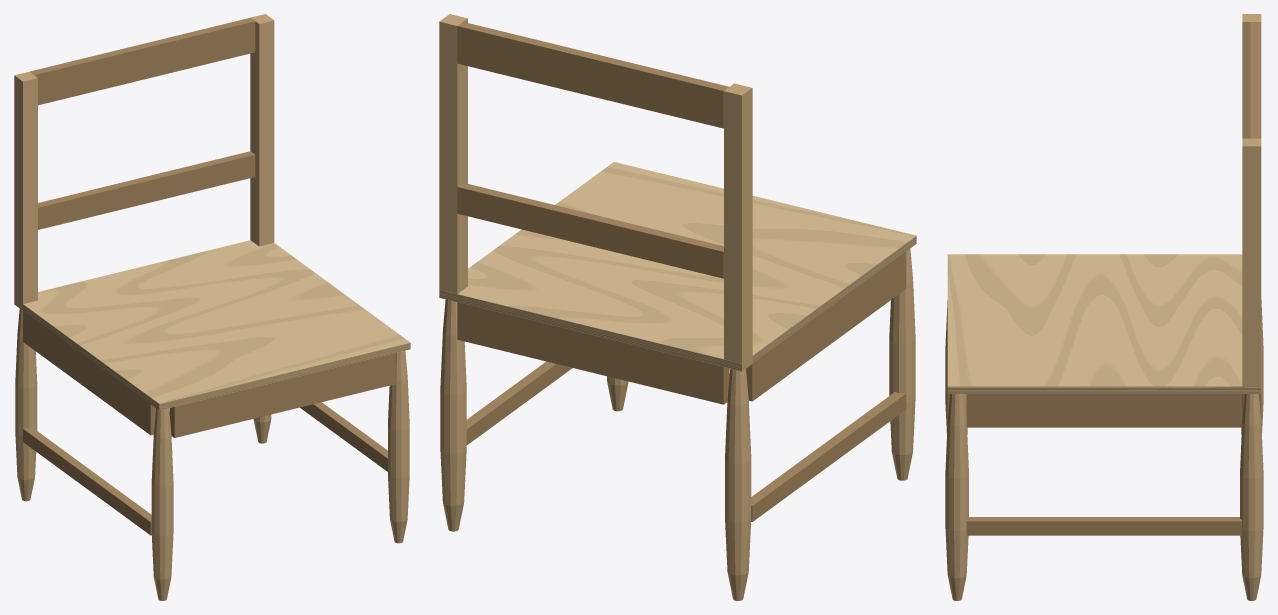
File: SAB-DKC-std.glb
3 views of the same model, side by side, from view 1: azimuth 30°, elevation 25°; view 2: azimuth 150°, elevation 25°; view 3: azimuth 270°, elevation 25° (orthographic). The views are drawn at different scales.
Parts seen in each view (by area): view 1: seat:sheet:eyJtIjoicGx5Iiwic2lkZSI6ImZhY2UiLCJzZWVkIjo2LCJ2Z, leg-bl:pbr, back-top:pbr, rail-f:pbr, back-mid:pbr, leg-br:pbr, rail-l:pbr, leg-fl:pbr, leg-fr:pbr, stretcher-l:pbr, seat:sheet:eyJtIjoicGx5Iiwic2lkZSI6ImVkZ2UtbG9uZyIsInNlZWQiO, stretcher-r:pbr (+1 smaller); view 2: seat:sheet:eyJtIjoicGx5Iiwic2lkZSI6ImZhY2UiLCJzZWVkIjo2LCJ2Z, leg-bl:pbr, leg-br:pbr, back-top:pbr, rail-b:pbr, back-mid:pbr, rail-l:pbr, leg-fl:pbr, stretcher-l:pbr, seat:sheet:eyJtIjoicGx5Iiwic2lkZSI6ImVkZ2UtbG9uZyIsInNlZWQiO, stretcher-r:pbr, seat:sheet:eyJtIjoicGx5Iiwic2lkZSI6ImVkZ2UtZW5kIiwic2VlZCI6N; view 3: seat:sheet:eyJtIjoicGx5Iiwic2lkZSI6ImZhY2UiLCJzZWVkIjo2LCJ2Z, rail-r:pbr, leg-br:pbr, stretcher-r:pbr, leg-fr:pbr, seat:sheet:eyJtIjoicGx5Iiwic2lkZSI6ImVkZ2UtZW5kIiwic2VlZCI6N, leg-bl:pbr, back-top:pbr.
Part boxes in pixels (x1,y1,x2,y2): seat:sheet:eyJtIjoicGx5Iiwic2lkZSI6ImZhY2UiLCJzZWVkIjo2LCJ2Z: [23, 240, 409, 403]; leg-bl:pbr: [14, 71, 37, 501]; back-top:pbr: [30, 17, 255, 105]; rail-f:pbr: [169, 353, 395, 437]; back-mid:pbr: [38, 151, 255, 229]; leg-br:pbr: [250, 14, 274, 443]; rail-l:pbr: [23, 311, 155, 435]; leg-fl:pbr: [151, 408, 173, 600]; leg-fr:pbr: [388, 351, 409, 543]; stretcher-l:pbr: [23, 427, 151, 535]; seat:sheet:eyJtIjoicGx5Iiwic2lkZSI6ImVkZ2UtbG9uZyIsInNlZWQiO: [159, 342, 410, 410]; stretcher-r:pbr: [300, 402, 387, 471]; seat:sheet:eyJtIjoicGx5Iiwic2lkZSI6ImZhY2UiLCJzZWVkIjo2LCJ2Z: [458, 162, 916, 358]; leg-bl:pbr: [724, 83, 752, 600]; leg-br:pbr: [439, 14, 467, 531]; back-top:pbr: [457, 22, 729, 128]; rail-b:pbr: [457, 302, 729, 404]; back-mid:pbr: [457, 182, 723, 278]; rail-l:pbr: [746, 251, 906, 401]; leg-fl:pbr: [889, 249, 915, 480]; stretcher-l:pbr: [751, 392, 906, 521]; seat:sheet:eyJtIjoicGx5Iiwic2lkZSI6ImVkZ2UtbG9uZyIsInNlZWQiO: [439, 290, 741, 371]; stretcher-r:pbr: [466, 361, 572, 445]; seat:sheet:eyJtIjoicGx5Iiwic2lkZSI6ImVkZ2UtZW5kIiwic2VlZCI6N: [752, 236, 916, 363]; seat:sheet:eyJtIjoicGx5Iiwic2lkZSI6ImZhY2UiLCJzZWVkIjo2LCJ2Z: [947, 254, 1242, 386]; rail-r:pbr: [966, 394, 1242, 427]; leg-br:pbr: [1240, 138, 1263, 600]; stretcher-r:pbr: [966, 517, 1242, 535]; leg-fr:pbr: [945, 394, 968, 600]; seat:sheet:eyJtIjoicGx5Iiwic2lkZSI6ImVkZ2UtZW5kIiwic2VlZCI6N: [947, 386, 1261, 393]; leg-bl:pbr: [1241, 14, 1263, 434]; back-top:pbr: [1250, 22, 1261, 138].
Bounding box in the file's own units: 0.6 × 0.95 × 0.6.
Materials: 15 (3 with a texture image).
